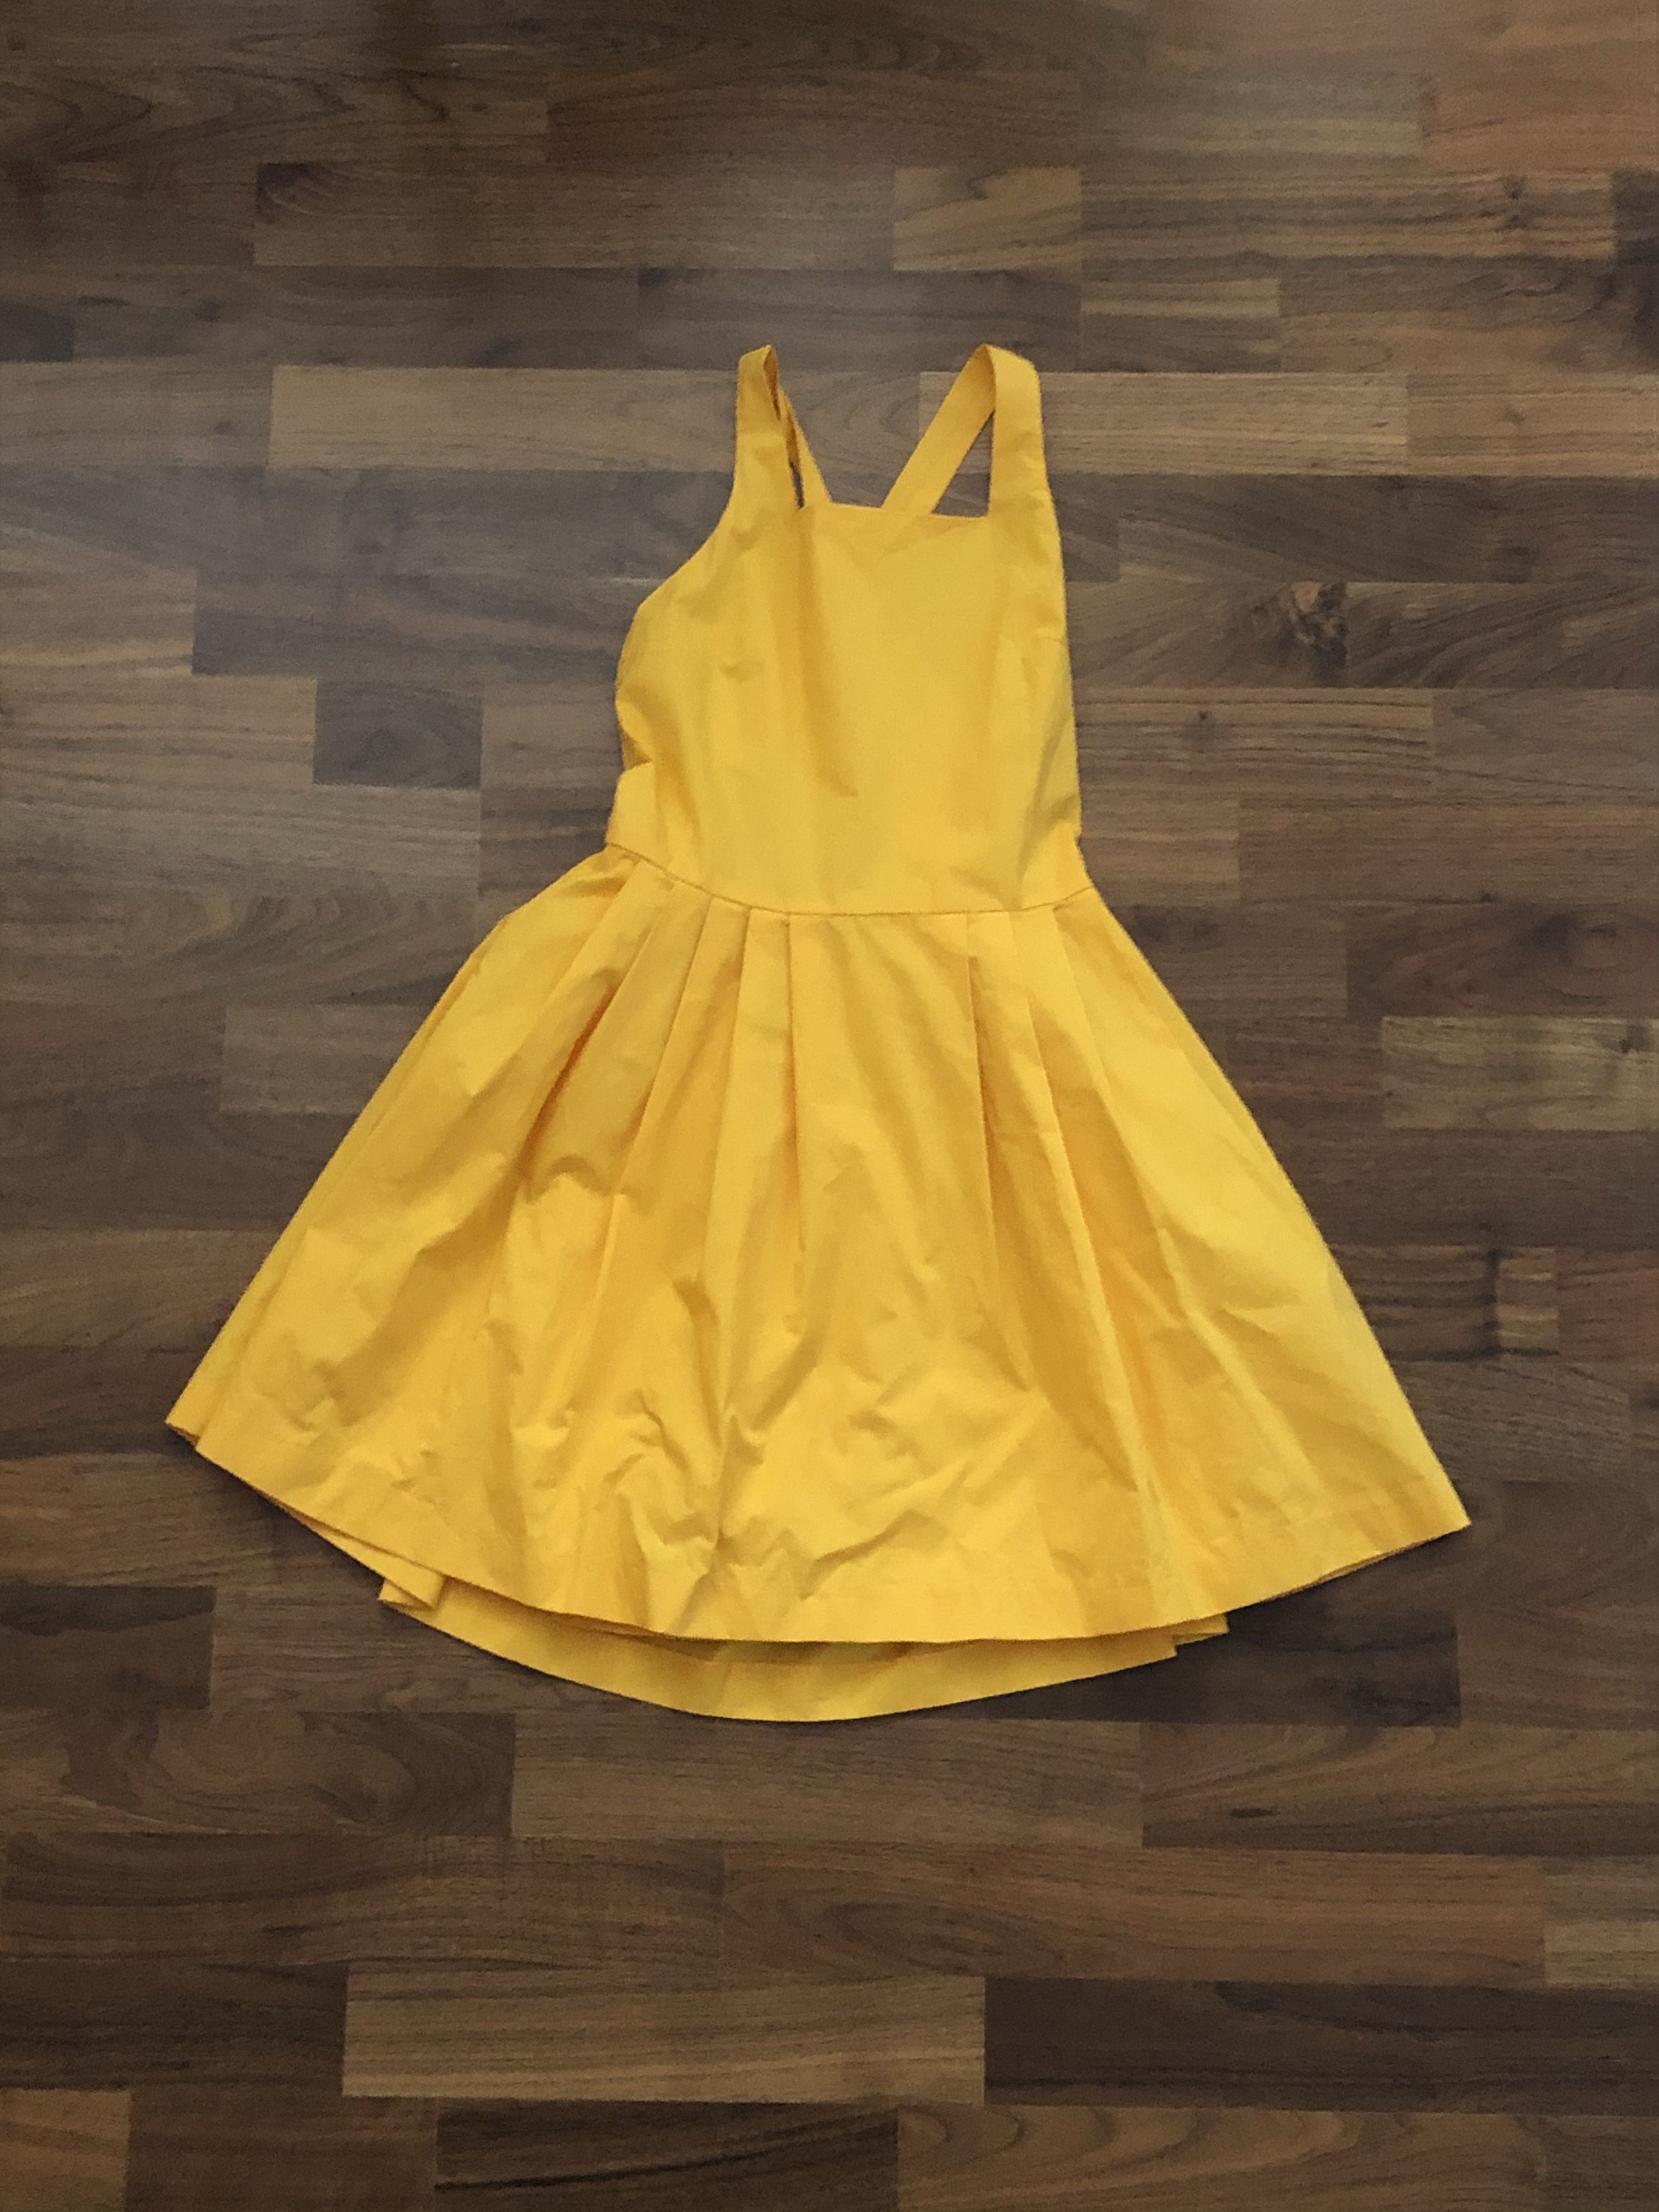clothes: (124, 307, 1474, 1738)
